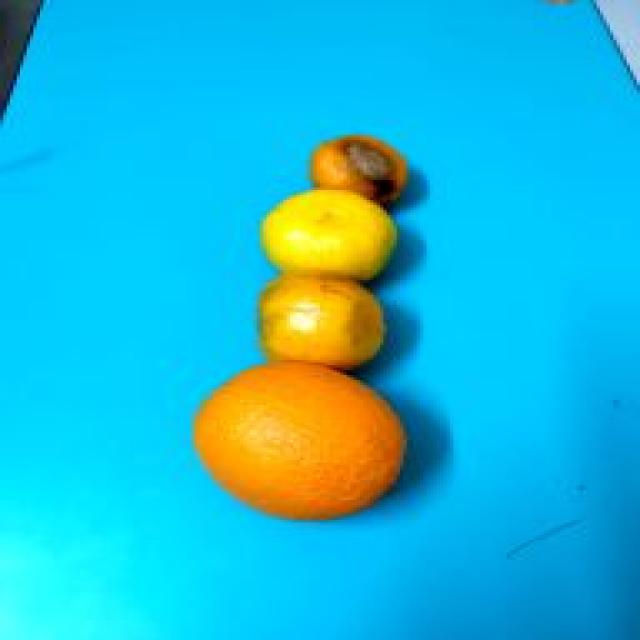Organik: (166, 356, 440, 527), (231, 262, 442, 377), (242, 183, 429, 280), (308, 132, 429, 211)
